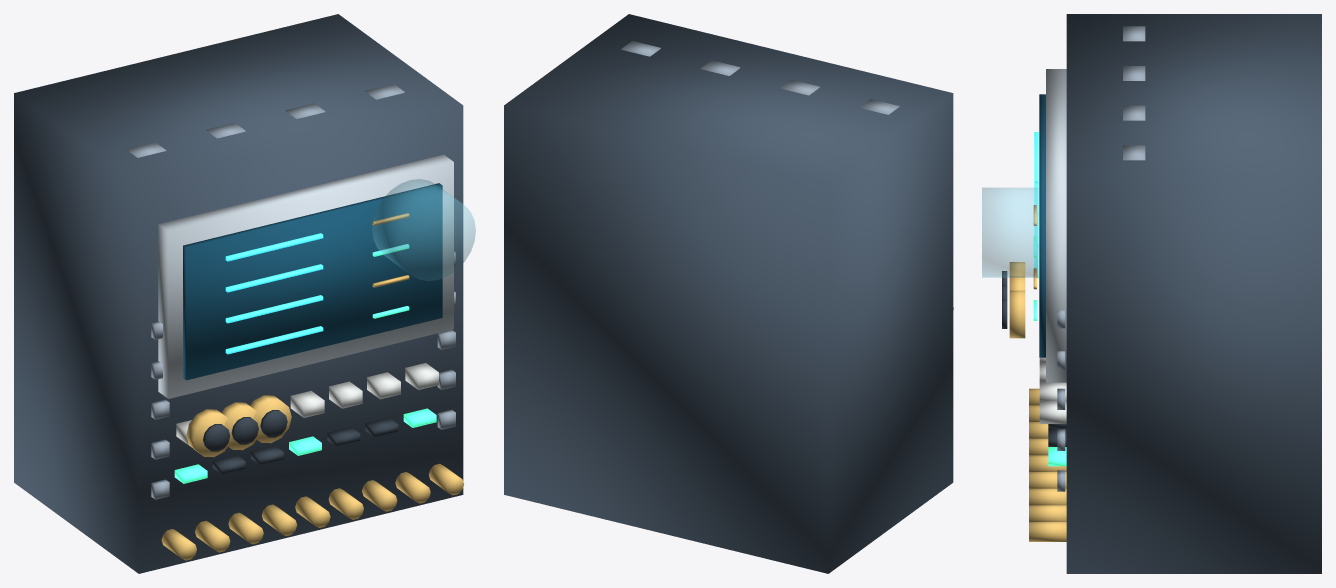
Rendered from 68_L88_DifferentialPressureMonitorArray.glb.
3 views of the same model, side by side, from view 1: azimuth 30°, elevation 25°; view 2: azimuth 150°, elevation 25°; view 3: azimuth 270°, elevation 25° (orthographic). The views are drawn at different scales.
Parts seen in each view (by area): view 1: L87_DifferentialPressureMonit_Part_0000, L87_DifferentialPressureMonit_Part_0002, L87_DifferentialPressureMonit_Part_0001, L87_DifferentialPressureMonit_Part_0009, L87_DifferentialPressureMonit_Part_0004, L87_DifferentialPressureMonit_Part_0008, L87_DifferentialPressureMonit_Part_0006, L87_DifferentialPressureMonit_Part_0003, L87_DifferentialPressureMonit_Part_0007, L87_DifferentialPressureMonit_Part_0005, L87_DifferentialPressureMonit_Part_0010, L87_DifferentialPressureMonit_Part_0014 (+4 smaller); view 2: L87_DifferentialPressureMonit_Part_0000, L87_DifferentialPressureMonit_Part_0008; view 3: L87_DifferentialPressureMonit_Part_0000, L87_DifferentialPressureMonit_Part_0001, L87_DifferentialPressureMonit_Part_0009, L87_DifferentialPressureMonit_Part_0004, L87_DifferentialPressureMonit_Part_0008, L87_DifferentialPressureMonit_Part_0002, L87_DifferentialPressureMonit_Part_0006, L87_DifferentialPressureMonit_Part_0014, L87_DifferentialPressureMonit_Part_0003, L87_DifferentialPressureMonit_Part_0005.
Part boxes in pixels (x1,y1,x2,y2): L87_DifferentialPressureMonit_Part_0000: (14, 14, 463, 573); L87_DifferentialPressureMonit_Part_0002: (183, 183, 442, 380); L87_DifferentialPressureMonit_Part_0001: (158, 154, 453, 398); L87_DifferentialPressureMonit_Part_0009: (372, 179, 475, 280); L87_DifferentialPressureMonit_Part_0004: (161, 213, 464, 560); L87_DifferentialPressureMonit_Part_0008: (126, 84, 455, 499); L87_DifferentialPressureMonit_Part_0006: (176, 363, 438, 445); L87_DifferentialPressureMonit_Part_0003: (225, 233, 323, 354); L87_DifferentialPressureMonit_Part_0007: (212, 417, 398, 474); L87_DifferentialPressureMonit_Part_0005: (174, 244, 436, 483); L87_DifferentialPressureMonit_Part_0010: (186, 409, 232, 457); L87_DifferentialPressureMonit_Part_0014: (250, 395, 291, 443); L87_DifferentialPressureMonit_Part_0000: (504, 14, 953, 573); L87_DifferentialPressureMonit_Part_0008: (621, 41, 899, 114); L87_DifferentialPressureMonit_Part_0000: (1066, 14, 1321, 573); L87_DifferentialPressureMonit_Part_0001: (1046, 69, 1066, 382); L87_DifferentialPressureMonit_Part_0009: (982, 188, 1037, 277); L87_DifferentialPressureMonit_Part_0004: (1029, 205, 1066, 541); L87_DifferentialPressureMonit_Part_0008: (1057, 26, 1145, 491); L87_DifferentialPressureMonit_Part_0002: (1039, 94, 1045, 357); L87_DifferentialPressureMonit_Part_0006: (1039, 357, 1066, 423); L87_DifferentialPressureMonit_Part_0014: (1009, 290, 1025, 338); L87_DifferentialPressureMonit_Part_0003: (1034, 132, 1038, 278); L87_DifferentialPressureMonit_Part_0005: (1033, 236, 1066, 466).
Size of the model in its own units: 1.04 by 1.2 by 0.9231.
